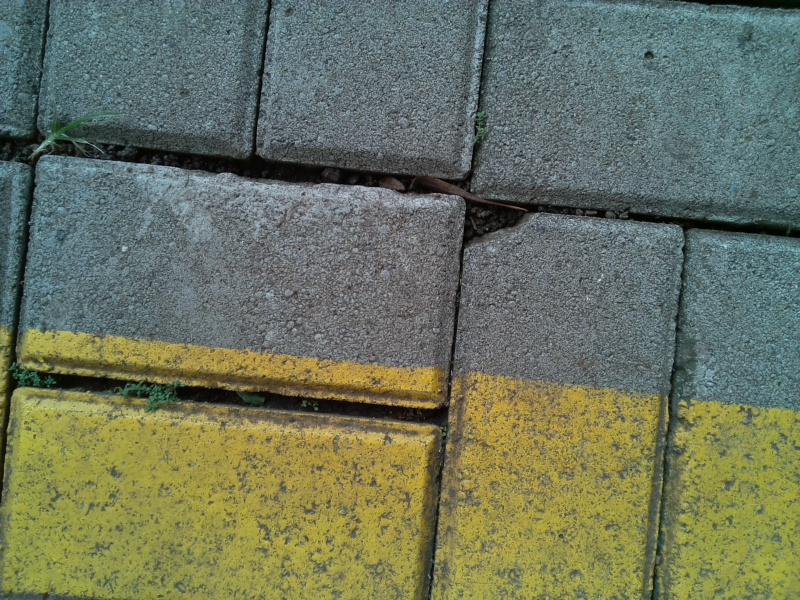Weed: (29, 111, 104, 165), (109, 377, 187, 417), (4, 359, 58, 401), (461, 105, 501, 153), (292, 390, 324, 422), (433, 416, 461, 447)
